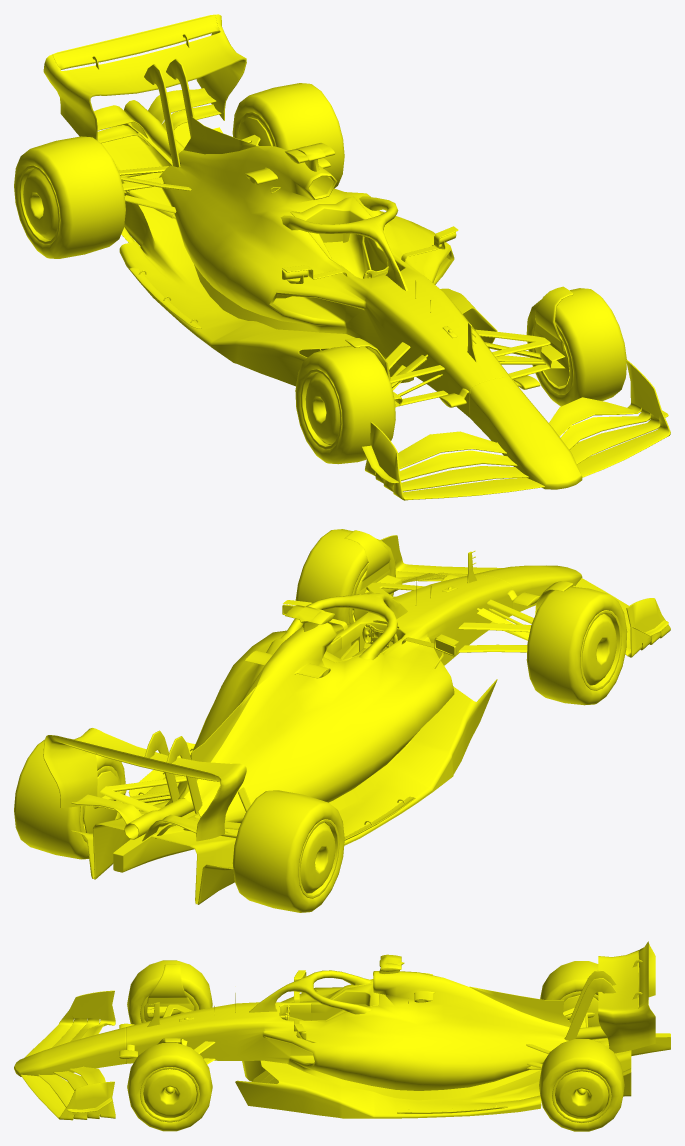
Rendered from F1PS_F1_Car_Mesh_v02_Collapsed.glb.
3 views of the same model, one above another, from view 1: azimuth 30°, elevation 25°; view 2: azimuth 150°, elevation 25°; view 3: azimuth 270°, elevation 25° (orthographic). The views are drawn at different scales.
Parts seen in each view (by area): view 1: F1PS_F1_Car_low; view 2: F1PS_F1_Car_low; view 3: F1PS_F1_Car_low.
Boxes of the visible parts, x1,y1,x2,y2 form: F1PS_F1_Car_low: [14, 14, 670, 500]; F1PS_F1_Car_low: [14, 529, 670, 912]; F1PS_F1_Car_low: [14, 941, 670, 1131].
Bounding box in the file's own units: 65.97 × 37.43 × 179.
Materials: 2 (2 with a texture image).
